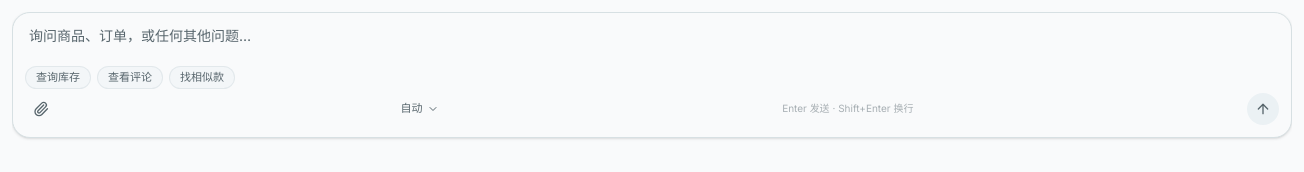
Test: PromptInputBox —— 建议提问 › 把提示词填入输入框，而不是直接发送
Click the button "查看评论".
click(130, 77)  # box 97,66 -> 163,88
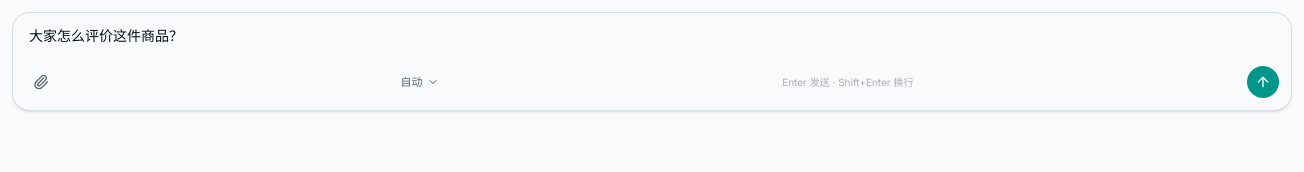
expect the text box holds "大家怎么评价这件商品？": met, box 13,13 -> 1291,60
